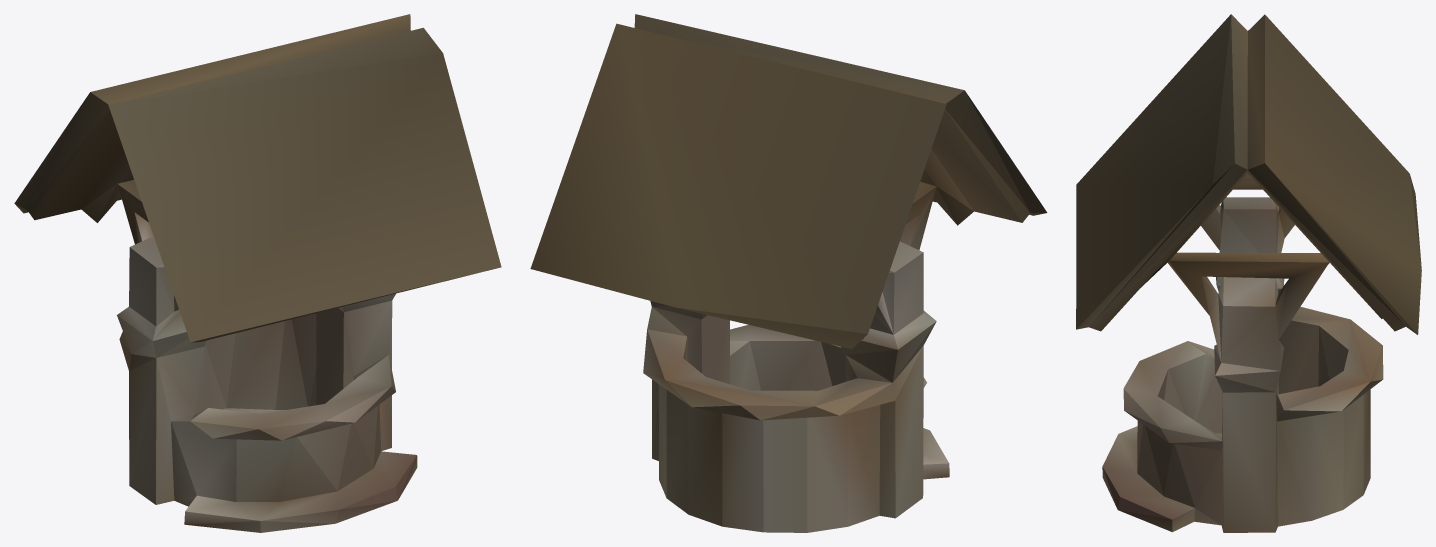
Rendered from Waterwell_NEW.fbx.
The picture shows the model from 3 angles, left to right: view 1: azimuth 30°, elevation 25°; view 2: azimuth 150°, elevation 25°; view 3: azimuth 270°, elevation 25°; orthographic projection. The views are drawn at different scales.
Visible parts, largest first — view 1: Prop-Well.001, Prop-Well, Prop-Well.002, Prop-Well.003, Prop-Well.005, Prop-Well.004; view 2: Prop-Well.001, Prop-Well.003, Prop-Well, Prop-Well.002, Prop-Well.004, Prop-Well.005; view 3: Prop-Well.001, Prop-Well.002, Prop-Well, Prop-Well.003, Prop-Well.004, Prop-Well.005.
Part boxes in pixels (x1,y1,x2,y2): Prop-Well.001: (90, 14, 501, 342); Prop-Well: (14, 92, 488, 504); Prop-Well.002: (117, 184, 396, 504); Prop-Well.003: (171, 404, 381, 506); Prop-Well.005: (184, 451, 417, 532); Prop-Well.004: (119, 331, 395, 440); Prop-Well.001: (530, 14, 964, 348); Prop-Well.003: (658, 384, 880, 532); Prop-Well: (683, 90, 1047, 479); Prop-Well.002: (647, 187, 936, 518); Prop-Well.004: (643, 324, 926, 420); Prop-Well.005: (923, 428, 948, 464); Prop-Well.001: (1076, 14, 1421, 334); Prop-Well.002: (1167, 175, 1329, 532); Prop-Well: (1076, 163, 1417, 531); Prop-Well.003: (1137, 389, 1370, 526); Prop-Well.004: (1123, 306, 1383, 450); Prop-Well.005: (1102, 426, 1194, 531).
Bounding box in the file's own units: 377 × 453 × 364.
